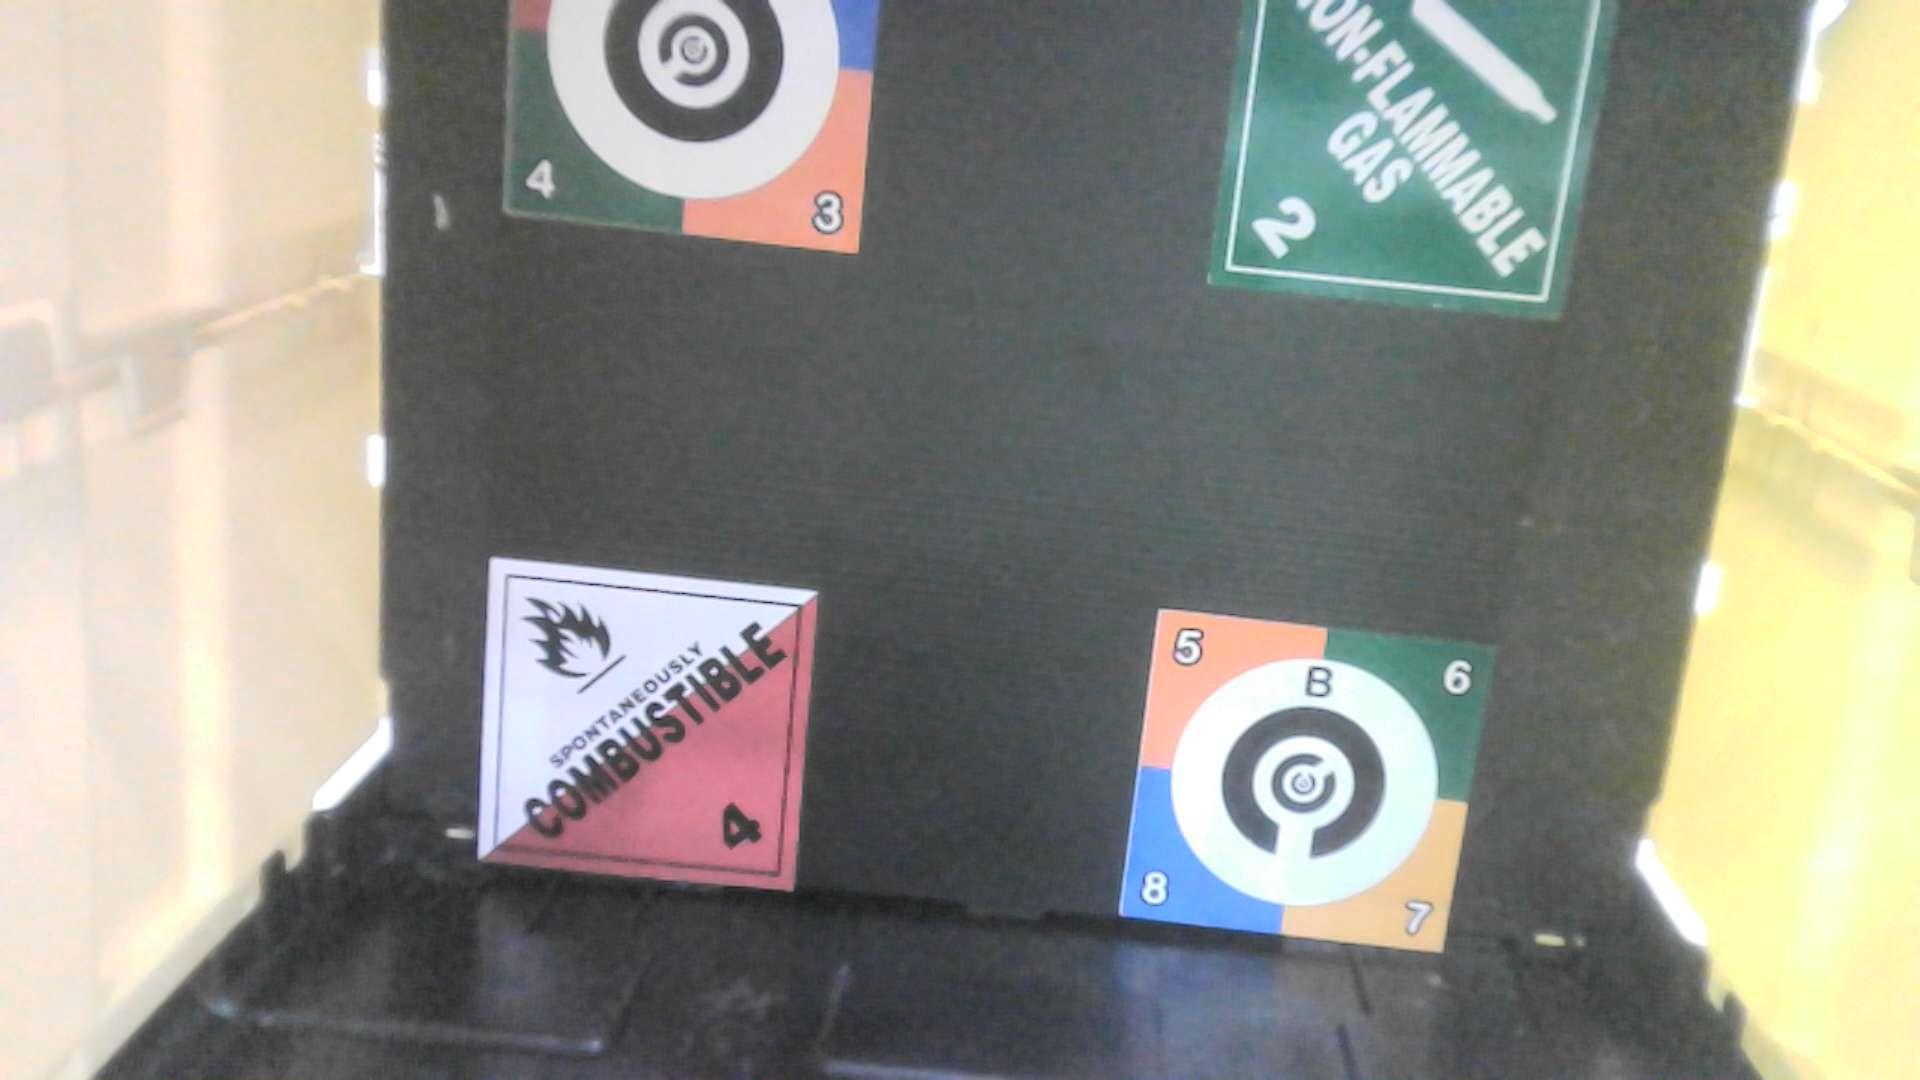non-flammable-gas: (1200, 1, 1626, 327)
spontaneously-combustible: (452, 547, 839, 907)
